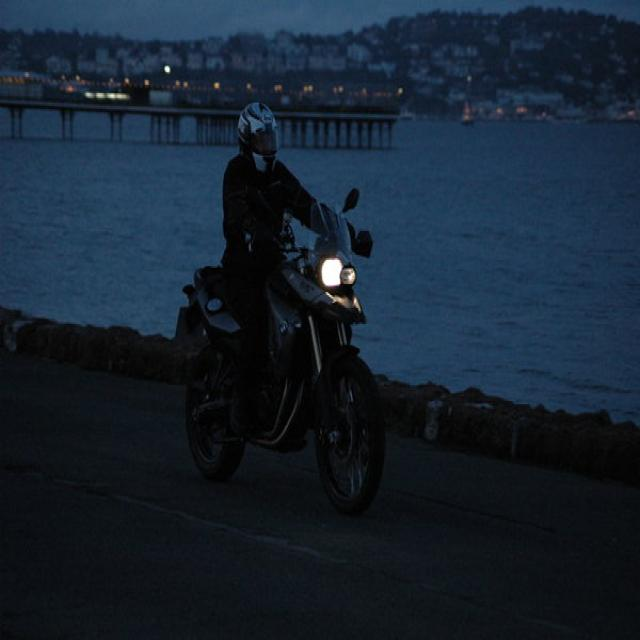Motorbike: (170, 224, 402, 496)
